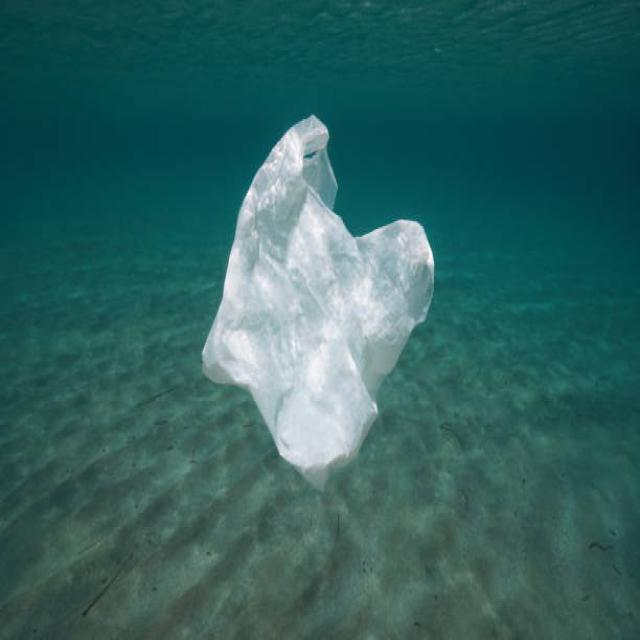garbage: (197, 108, 434, 475)
